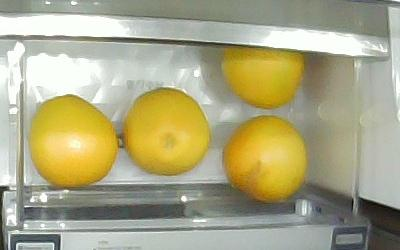grapefruit: (29, 95, 118, 186), (123, 88, 211, 176), (223, 114, 307, 202), (221, 46, 305, 109)
